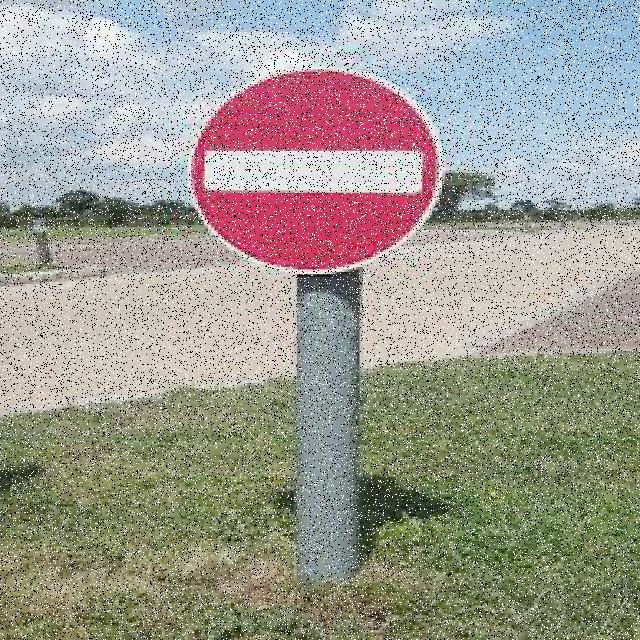no entry: (194, 69, 438, 267)
